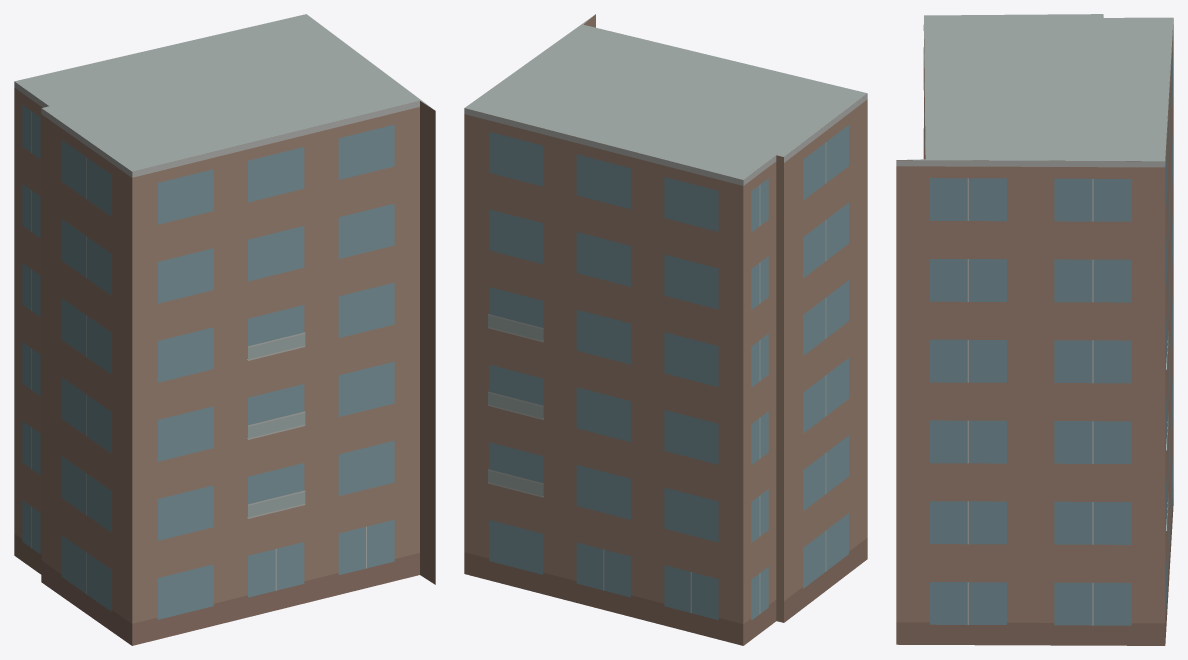
Rendered from survey-upis-32777578.glb.
3 views of the same model, side by side, from view 1: azimuth 30°, elevation 25°; view 2: azimuth 150°, elevation 25°; view 3: azimuth 270°, elevation 25° (orthographic). The views are drawn at different scales.
Visible parts, largest first — view 1: survey-upis-32777578.tmp; view 2: survey-upis-32777578.tmp; view 3: survey-upis-32777578.tmp.
Boxes of the visible parts, x1,y1,x2,y2 form: survey-upis-32777578.tmp: (14, 14, 435, 645); survey-upis-32777578.tmp: (464, 14, 867, 645); survey-upis-32777578.tmp: (896, 14, 1173, 645).
Size of the model in its own units: 12.39 by 19 by 9.86.
